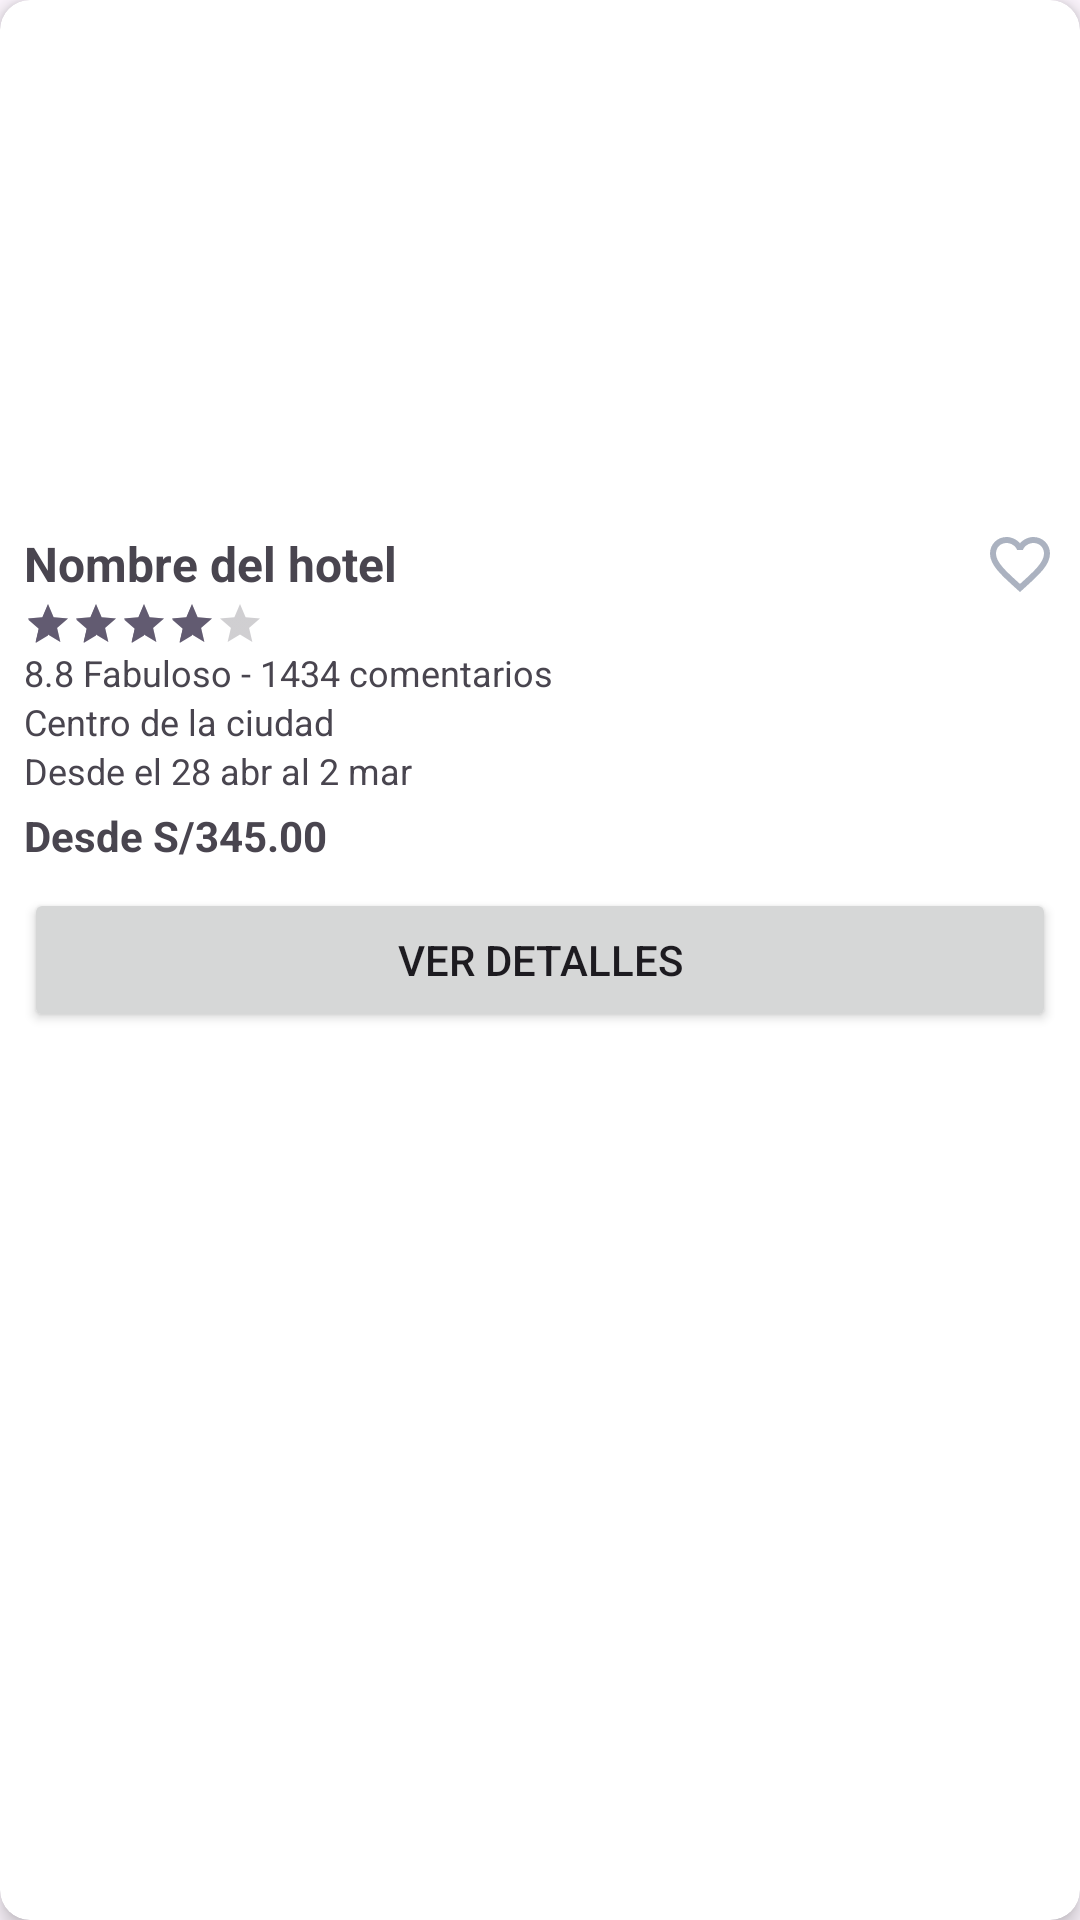

Icons on this 1080 × 1920 Android screen, each with the point to tap as [x,y]:
favorite border: [1020,564]
